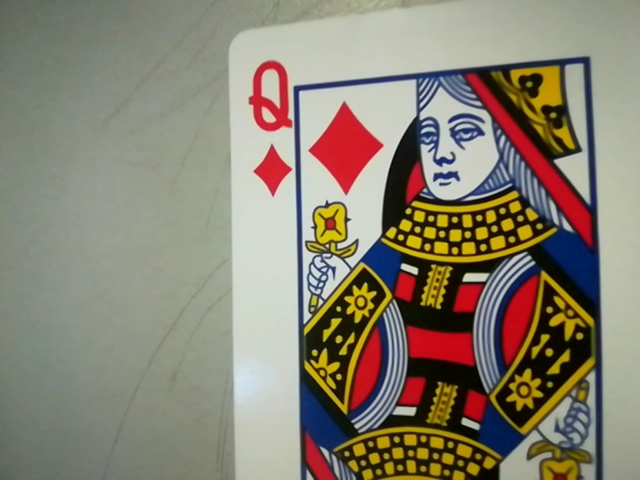fk q: (242, 53, 301, 196)
